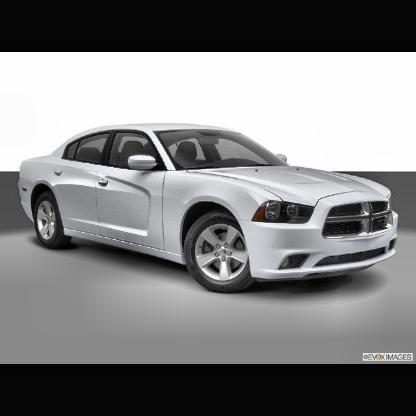Dodge Charger Sedan 2012: (16, 124, 402, 292)
